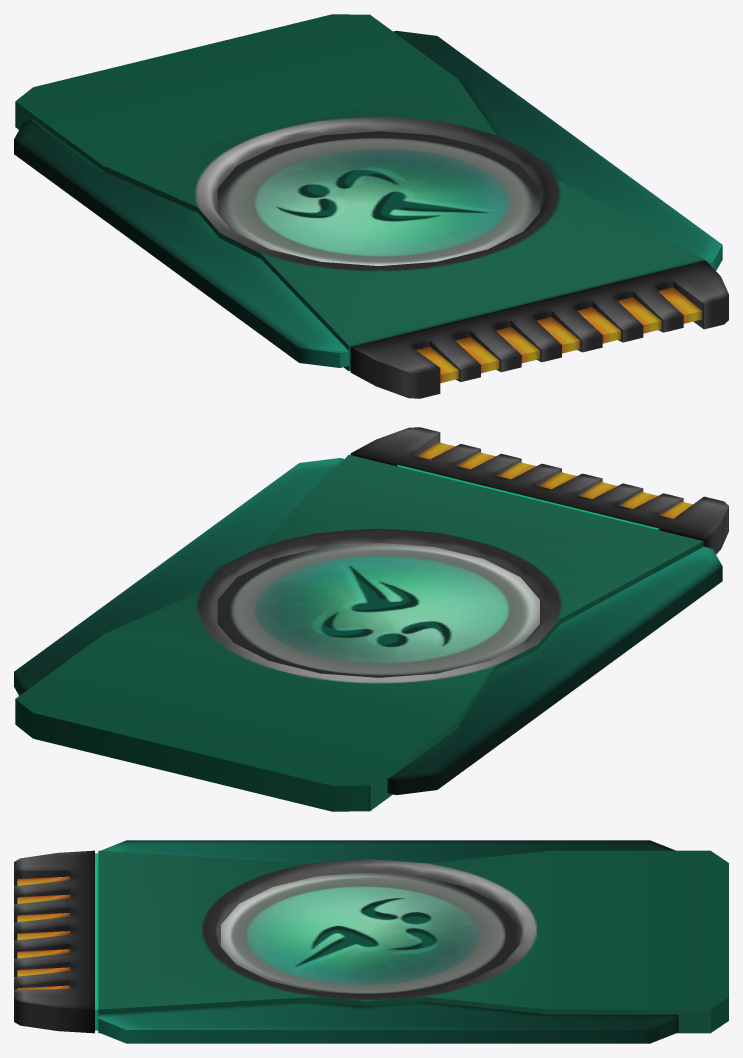
The model's file is BoostChip.FBX.
The picture shows the model from 3 angles, top to bottom: view 1: azimuth 30°, elevation 25°; view 2: azimuth 150°, elevation 25°; view 3: azimuth 270°, elevation 25°; orthographic projection. The views are drawn at different scales.
Parts seen in each view (by area): view 1: Boost Chip; view 2: Boost Chip; view 3: Boost Chip.
Part boxes in pixels (box(x1,y1,x2,y2)): Boost Chip: box(14, 14, 728, 398); Boost Chip: box(14, 427, 728, 811); Boost Chip: box(14, 840, 728, 1043).
Bounding box in the file's own units: 116 × 7.29 × 185.
1 material, 1 textured.
